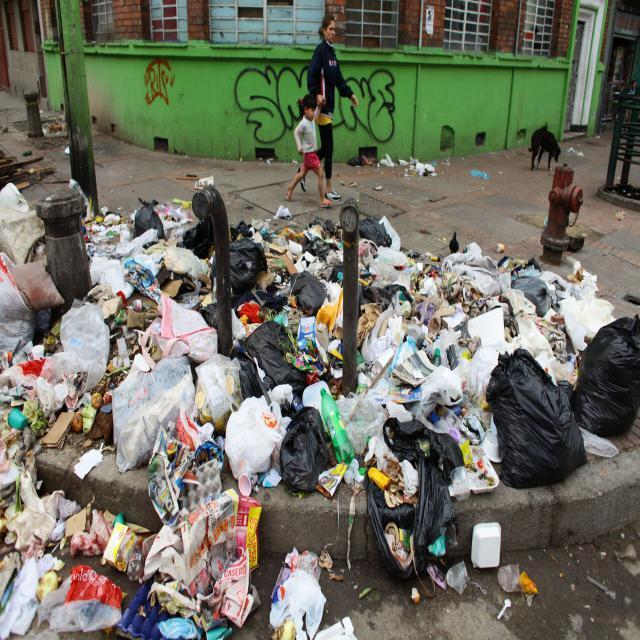Trashbag: (360, 417, 466, 585), (480, 354, 590, 489), (578, 309, 640, 438), (279, 405, 340, 490), (246, 318, 312, 396), (212, 240, 276, 308), (508, 268, 564, 326), (294, 261, 339, 332), (352, 213, 403, 252), (134, 190, 170, 244)
